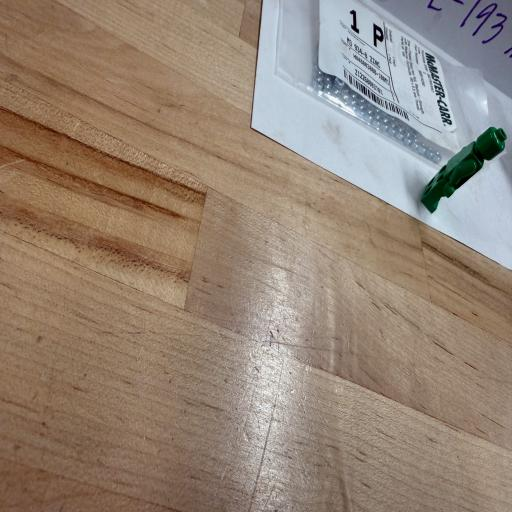Lego-Dude: (421, 127, 506, 212)
